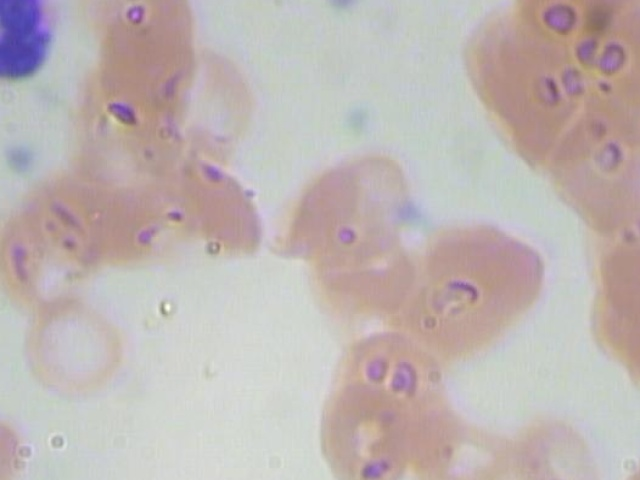Platelets: (314, 0, 373, 20)
RBC: (407, 215, 552, 341), (275, 144, 419, 270), (462, 2, 593, 126), (530, 98, 640, 224), (17, 288, 127, 406), (311, 382, 421, 480), (561, 0, 640, 121), (96, 0, 199, 85), (508, 406, 623, 480), (405, 406, 520, 480), (584, 203, 640, 317), (518, 0, 640, 51), (0, 406, 33, 480)
WBC: (0, 0, 71, 115)
